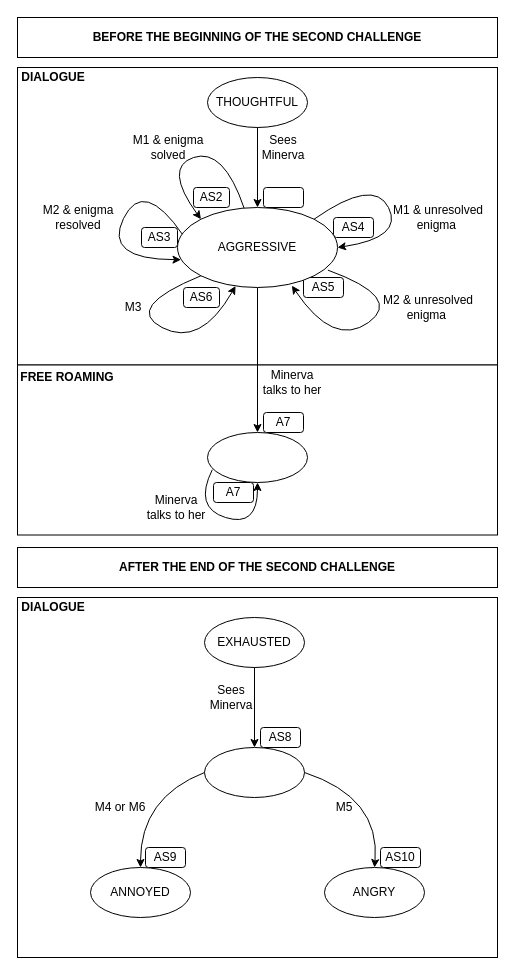
Some shapes in this 515 by 975 pixel diagram are drawn without their labels. Each missing label, with the centre of its shape:
"AMAZED" belongs at (254,772).
"AS1" belongs at (283,197).
"SPACIOUS" belongs at (257,457).
